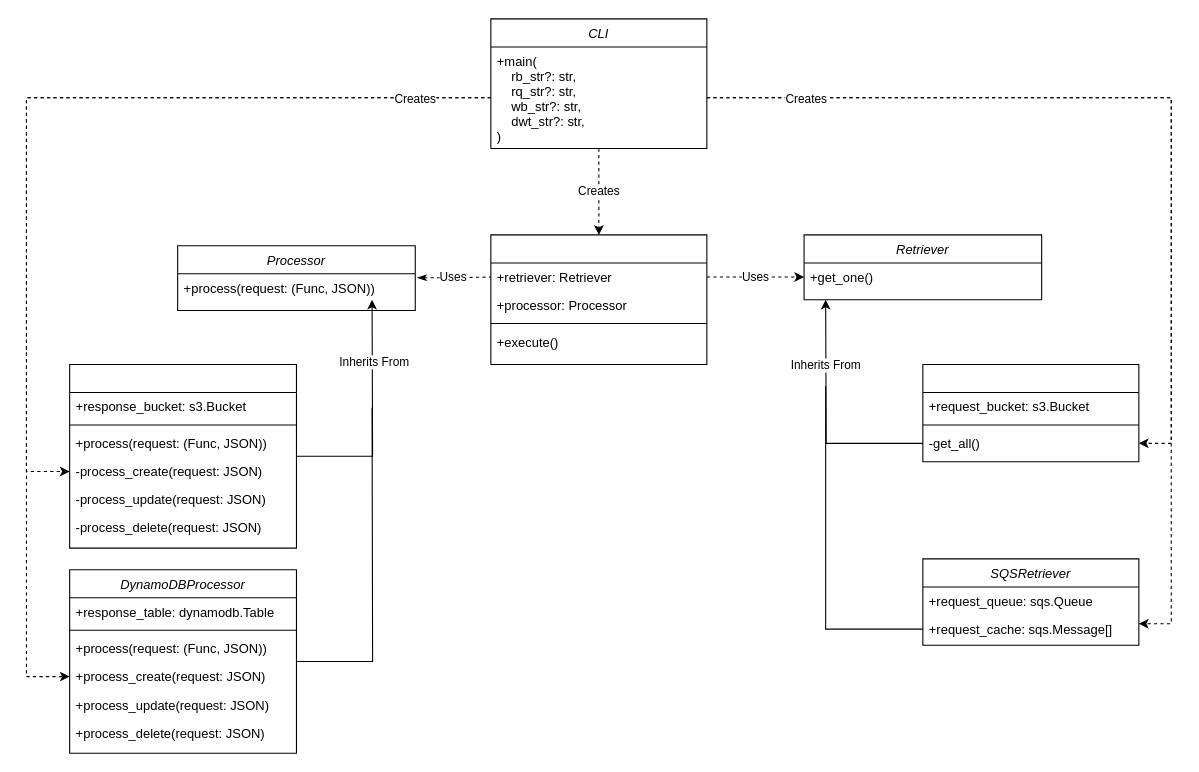
The diagram is 1199 pixels wide and 772 high, and some of its shapes have lost their labels. The box of each missing label's shape, as (x1, y1, x2, y2) in pixels:
Poller: (490, 234, 707, 364)
S3Processor: (69, 363, 296, 548)
S3Retriever: (922, 363, 1139, 462)
